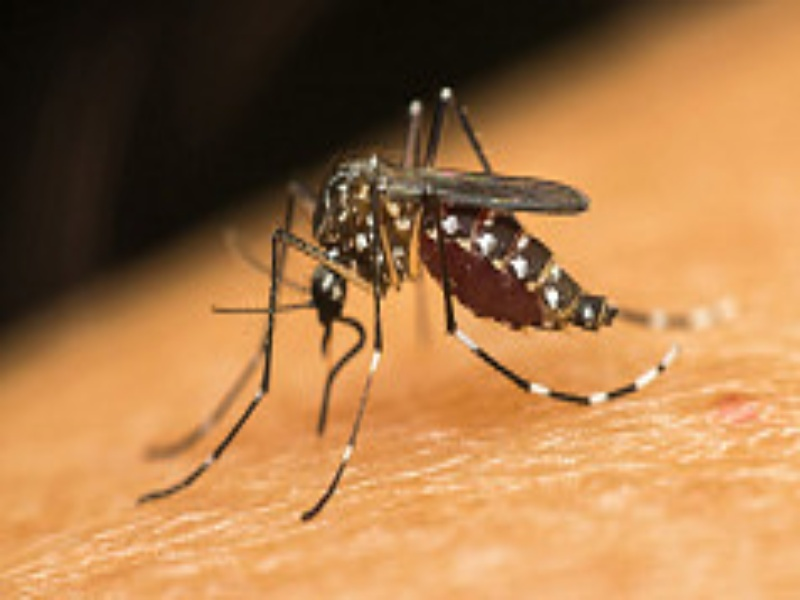dengue_mosquito: (235, 85, 621, 411)
